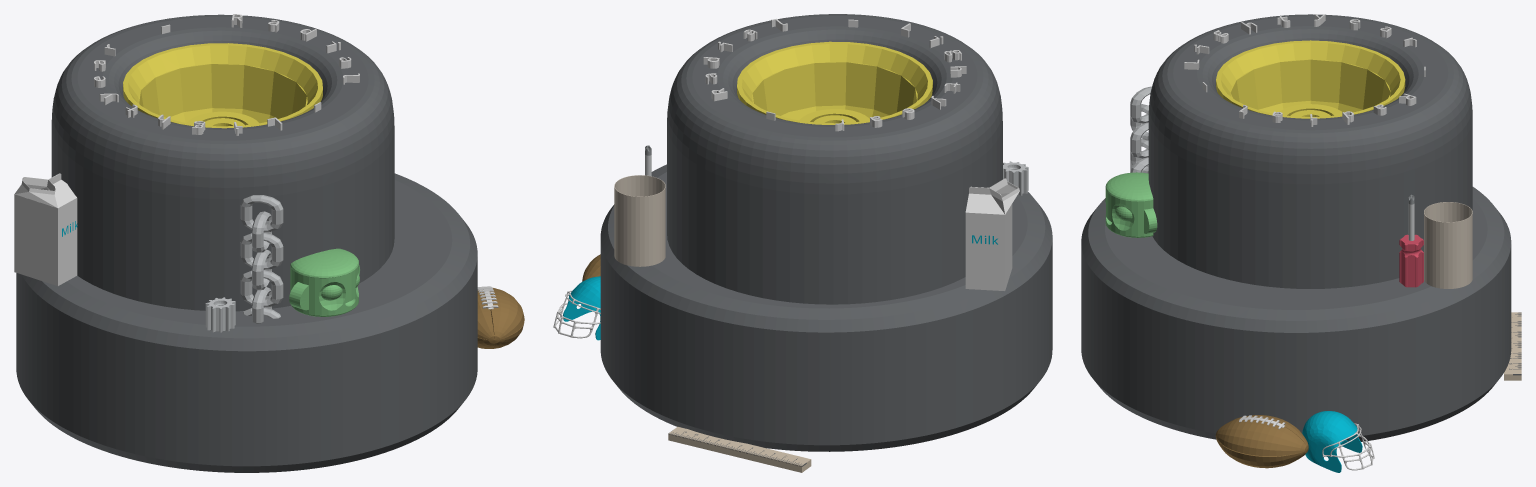
File: Surprising Borwo-Kup.glb
The picture shows the model from 3 angles, left to right: view 1: azimuth 30°, elevation 25°; view 2: azimuth 150°, elevation 25°; view 3: azimuth 270°, elevation 25°; orthographic projection. The views are drawn at different scales.
Visible parts, largest first — view 1: Mesh_Mesh_head_geo.001_lambert2SG.001; view 2: Mesh_Mesh_head_geo.001_lambert2SG.001; view 3: Mesh_Mesh_head_geo.001_lambert2SG.001.
Part boxes in pixels (box(x1,y1,x2,y2)): Mesh_Mesh_head_geo.001_lambert2SG.001: box(14, 14, 524, 472); Mesh_Mesh_head_geo.001_lambert2SG.001: box(553, 14, 1052, 472); Mesh_Mesh_head_geo.001_lambert2SG.001: box(1081, 14, 1521, 472).
Bounding box in the file's own units: 0.0204 × 0.013 × 0.018.
